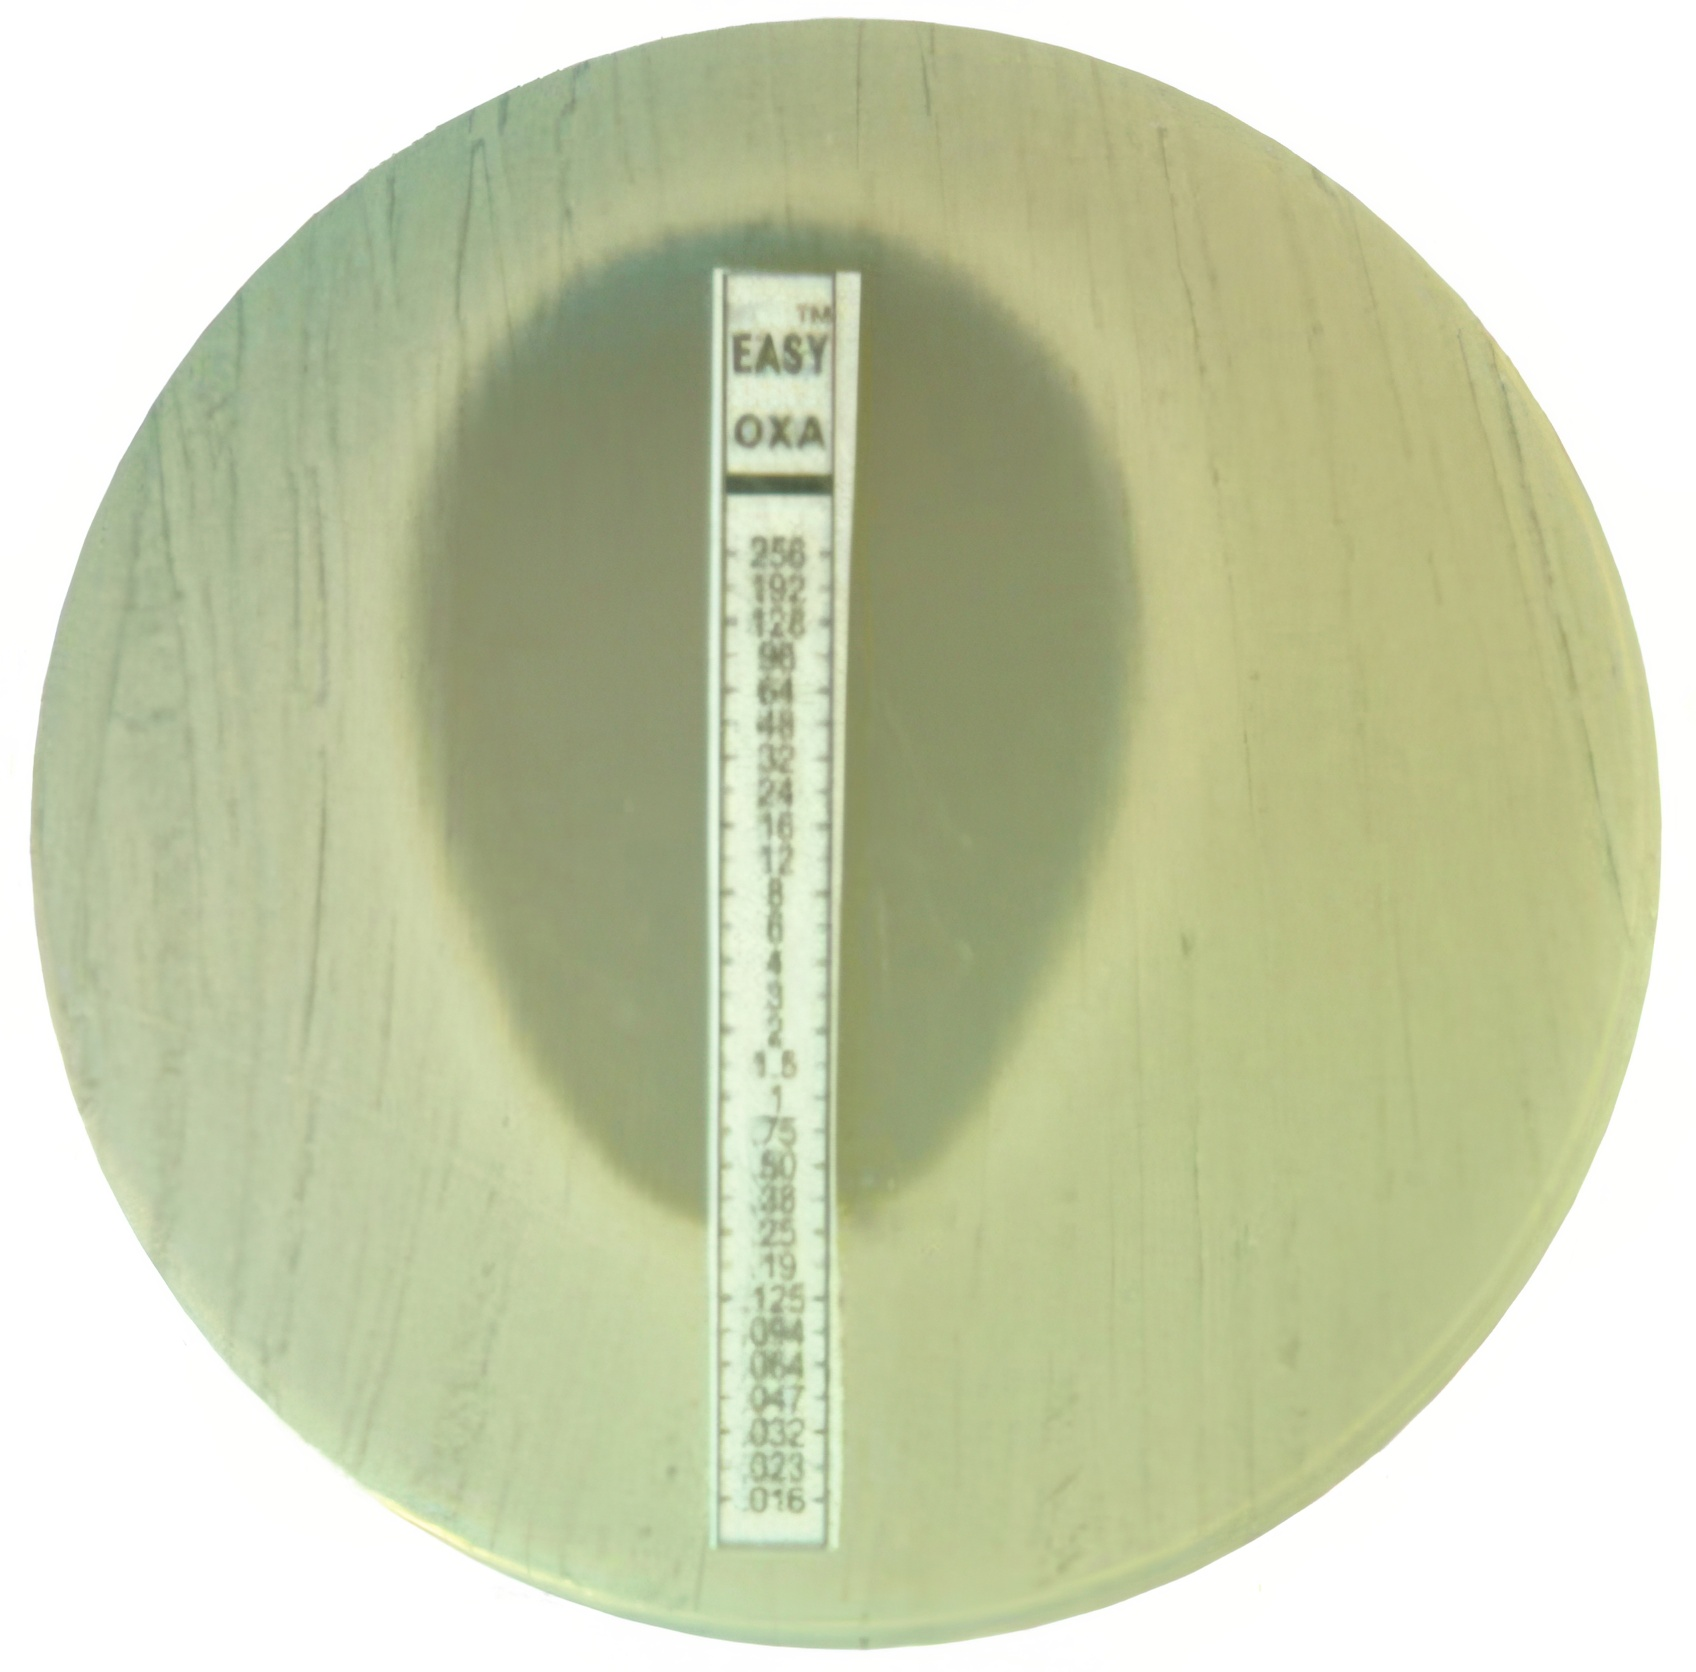line: (706, 265, 851, 1550)
zone: (419, 227, 1131, 1219)
